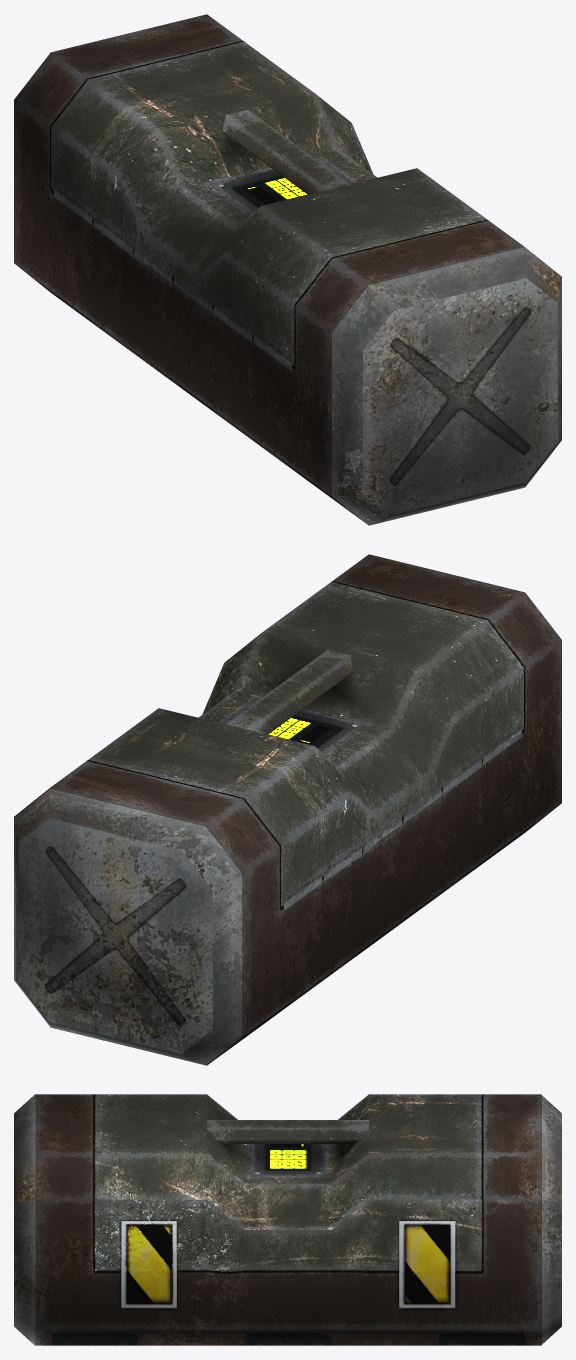
Rendered from ammo_box.glb.
The picture shows the model from 3 angles, top to bottom: view 1: azimuth 30°, elevation 25°; view 2: azimuth 150°, elevation 25°; view 3: azimuth 270°, elevation 25°; orthographic projection. The views are drawn at different scales.
Parts seen in each view (by area): view 1: Ammo_box; view 2: Ammo_box; view 3: Ammo_box.
Boxes of the visible parts, x1,y1,x2,y2 form: Ammo_box: (14,14,561,525); Ammo_box: (14,554,561,1065); Ammo_box: (14,1094,561,1345).
Size of the model in its own units: 0.5 by 0.5 by 1.3.
Materials: 1 (1 with a texture image).
